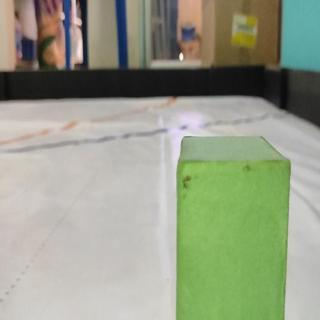greenbox: (176, 133, 293, 320)
